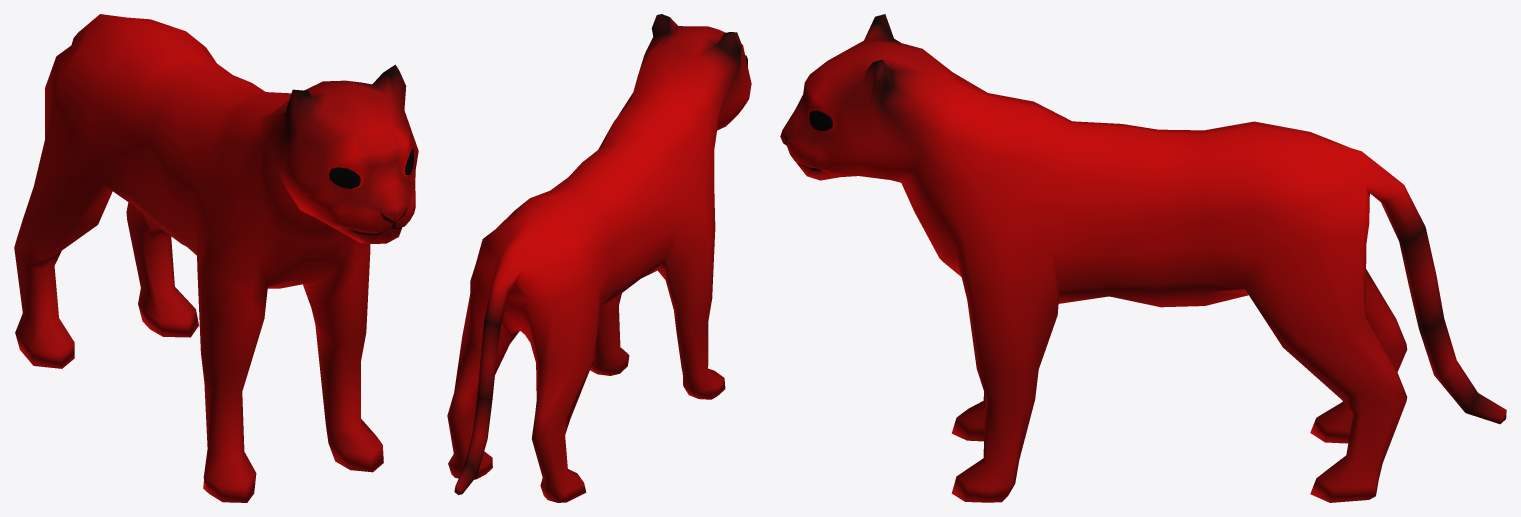
File: Animals_WhiteTiger.fbx
3 views of the same model, side by side, from view 1: azimuth 30°, elevation 25°; view 2: azimuth 150°, elevation 25°; view 3: azimuth 270°, elevation 25° (orthographic). The views are drawn at different scales.
Visible parts, largest first — view 1: base; view 2: base; view 3: base.
Part boxes in pixels (x1,y1,x2,y2): base: [14, 14, 418, 502]; base: [447, 14, 751, 502]; base: [780, 14, 1506, 502].
Bounding box in the file's own units: 58.35 × 141 × 218.
